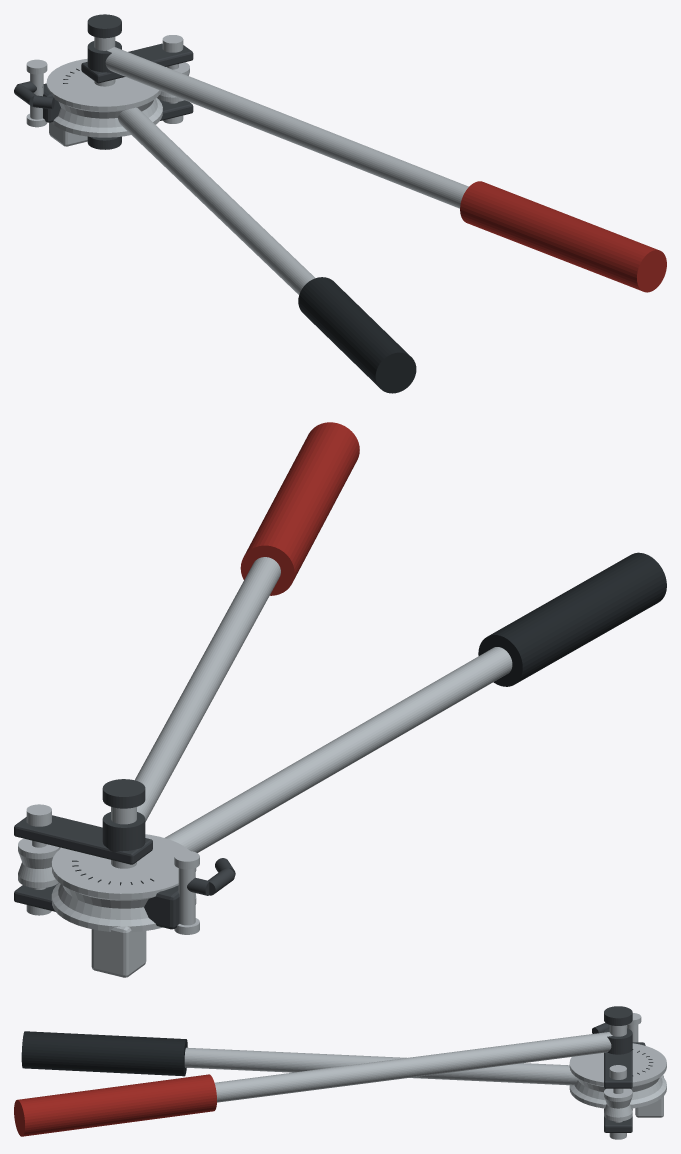
File: full.fbx
3 views of the same model, one above another, from view 1: azimuth 30°, elevation 25°; view 2: azimuth 150°, elevation 25°; view 3: azimuth 270°, elevation 25° (orthographic). The views are drawn at different scales.
Parts seen in each view (by area): view 1: Upper lever grip, Upper carriage lever, Fixed handle grip, Fixed lower handle, Fixed grooved former, Carrier fork cheek 0.043, Pivot axial retaining head 0.071, Upper lever attachment collar; view 2: Fixed lower handle, Fixed handle grip, Upper lever grip, Fixed grooved former, Upper carriage lever, Carrier fork cheek 0.043, Generic rear vise mounting boss, Grooved follower roller, Upper lever attachment collar, Fixed latch mounting lug, Pivot axial retaining head 0.071, Latch pivot; view 3: Upper carriage lever, Upper lever grip, Fixed handle grip, Fixed lower handle, Fixed grooved former, Grooved follower roller, Carrier fork cheek 0.043, Pivot axial retaining head 0.071, Upper lever attachment collar, Generic rear vise mounting boss, Carrier fork cheek 0.009, Roller axle retainer 0.049.
Boxes of the visible parts, box(x1,y1,x2,y2) form: Upper lever grip: box(460, 181, 666, 292); Upper carriage lever: box(105, 47, 468, 208); Fixed handle grip: box(298, 277, 416, 393); Fixed lower handle: box(118, 107, 315, 294); Fixed grooved former: box(46, 58, 162, 137); Carrier fork cheek 0.043: box(81, 43, 193, 83); Pivot axial retaining head 0.071: box(87, 14, 121, 38); Upper lever attachment collar: box(87, 41, 121, 73); Fixed lower handle: box(165, 647, 512, 852); Fixed handle grip: box(478, 552, 666, 686); Upper lever grip: box(240, 422, 359, 595); Fixed grooved former: box(51, 834, 196, 932); Upper carriage lever: box(135, 557, 280, 821); Carrier fork cheek 0.043: box(14, 815, 152, 864); Generic rear vise mounting boss: box(91, 926, 146, 977); Grooved follower roller: box(18, 838, 60, 888); Upper lever attachment collar: box(102, 812, 145, 852); Fixed latch mounting lug: box(144, 885, 179, 929); Pivot axial retaining head 0.071: box(102, 779, 145, 808); Latch pivot: box(178, 868, 195, 925); Upper carriage lever: box(214, 1032, 612, 1102); Upper lever grip: box(14, 1074, 216, 1136); Fixed handle grip: box(21, 1031, 187, 1076); Fixed lower handle: box(184, 1047, 577, 1085); Fixed grooved former: box(569, 1043, 666, 1108); Grooved follower roller: box(604, 1088, 632, 1121); Carrier fork cheek 0.043: box(604, 1050, 632, 1088); Pivot axial retaining head 0.071: box(604, 1006, 632, 1025); Upper lever attachment collar: box(604, 1028, 632, 1054); Generic rear vise mounting boss: box(635, 1075, 663, 1117); Carrier fork cheek 0.009: box(604, 1108, 632, 1132); Roller axle retainer 0.049: box(609, 1065, 626, 1079).
Size of the model in its own units: 19.63 by 8.2 by 45.59.
